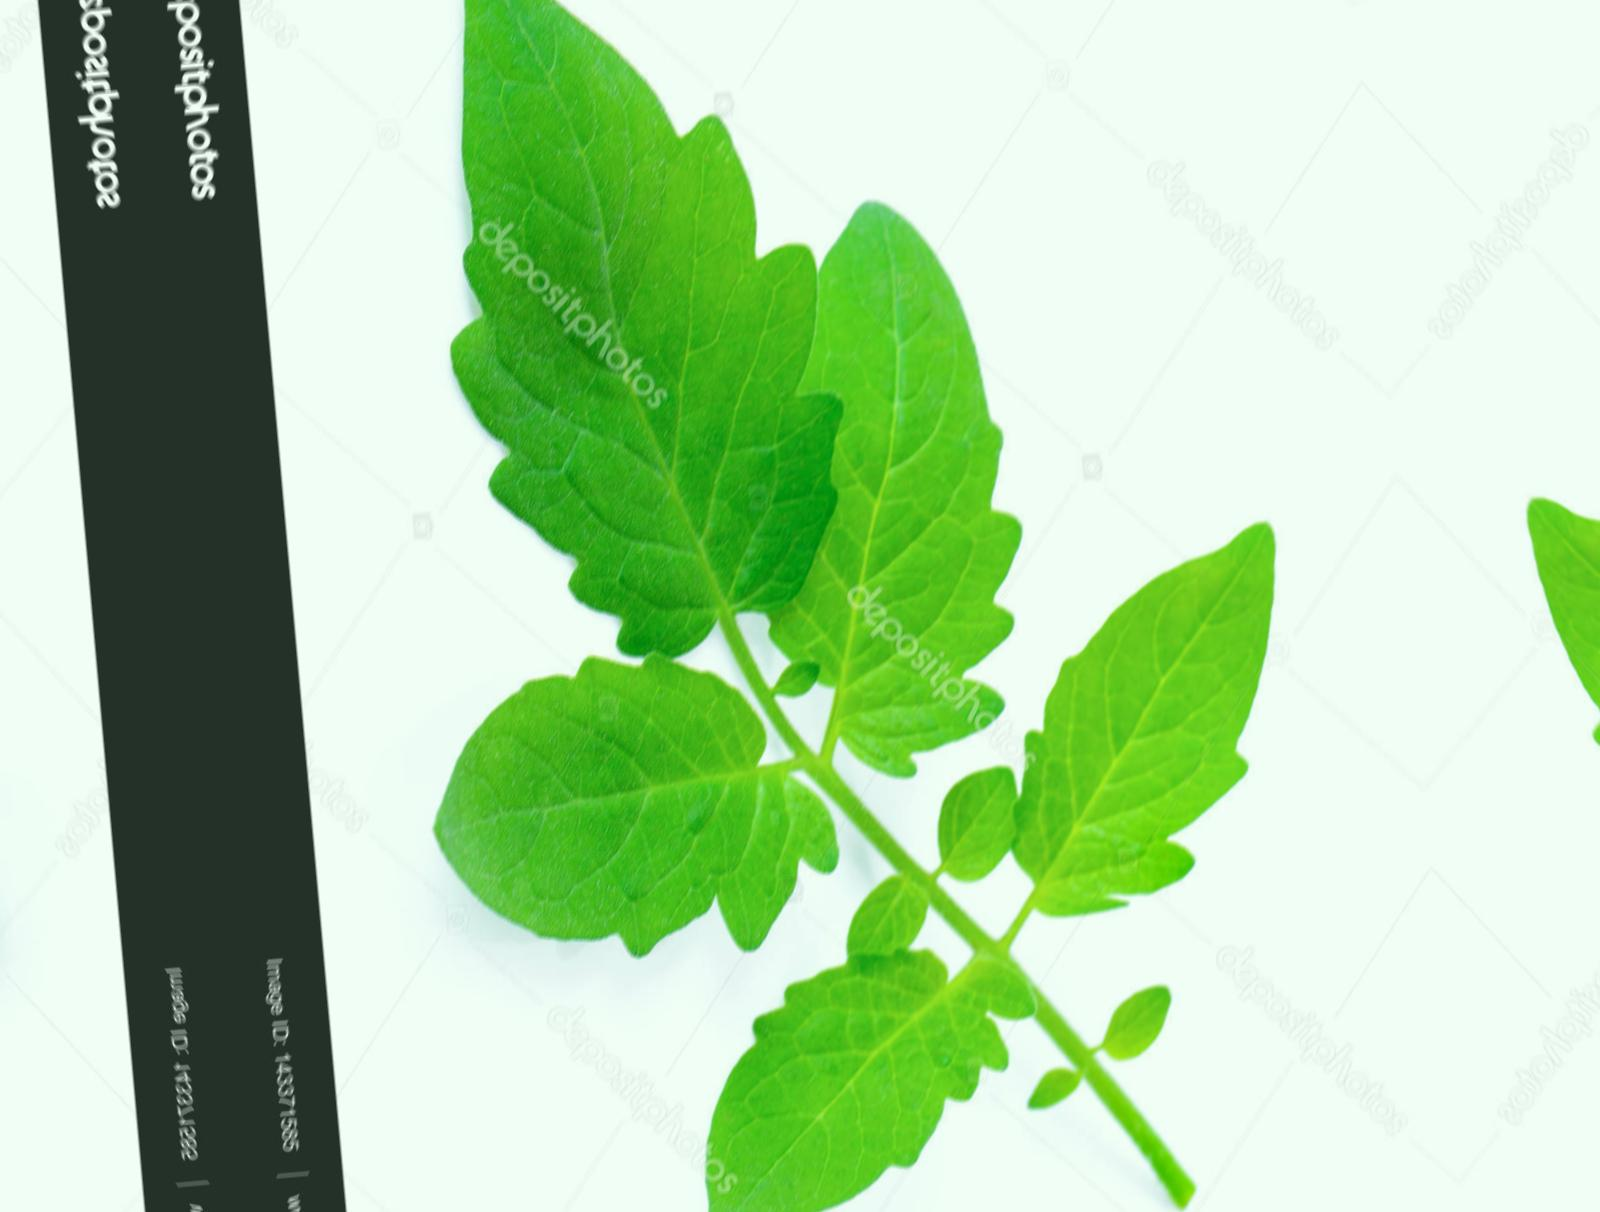Tomato leaf: (411, 0, 855, 667), (701, 185, 1060, 800), (958, 489, 1349, 952), (393, 619, 855, 988), (657, 927, 1037, 1212)
